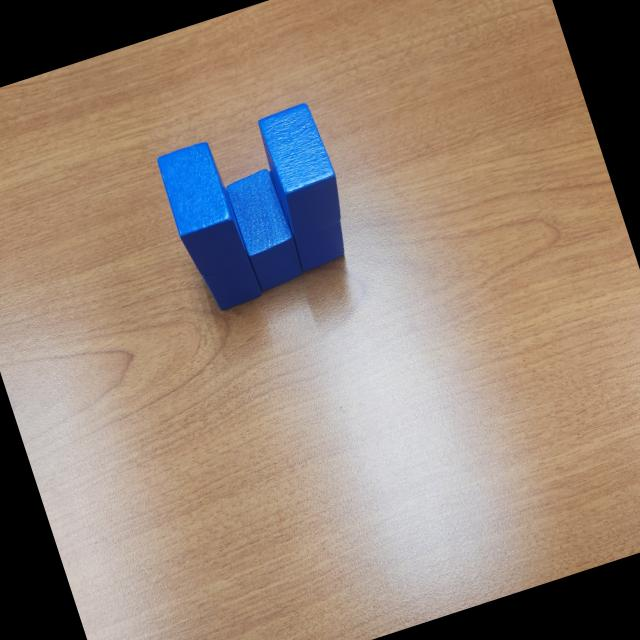blue: (154, 138, 251, 280), (253, 103, 349, 240), (223, 166, 310, 294), (268, 154, 353, 275), (200, 251, 264, 316)
